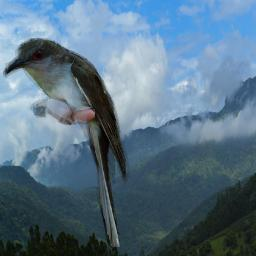Cuckoo: (3, 38, 131, 247)
